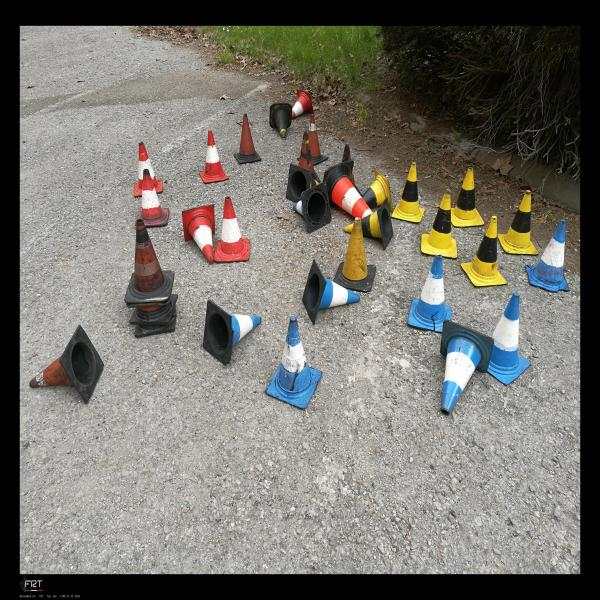blue_cone: (264, 316, 322, 409), (440, 320, 494, 415), (487, 293, 530, 385), (203, 300, 261, 366), (302, 259, 360, 325), (408, 254, 451, 333), (525, 220, 570, 292), (293, 182, 331, 233)
large_orange_cone: (323, 160, 373, 219)
orange_cone: (214, 196, 250, 263), (182, 204, 215, 265), (135, 169, 169, 226), (134, 142, 163, 198), (199, 130, 229, 183), (292, 89, 314, 119)
unknown_cone: (29, 325, 104, 404), (124, 219, 175, 303), (333, 217, 376, 293), (297, 114, 328, 166), (234, 114, 262, 164), (298, 132, 321, 182), (342, 144, 362, 196), (270, 103, 292, 140)
yellow_cone: (460, 216, 508, 286), (497, 190, 538, 255), (344, 197, 393, 250), (421, 191, 457, 259), (391, 162, 425, 223), (451, 167, 484, 227), (361, 169, 392, 212), (286, 163, 320, 202)
